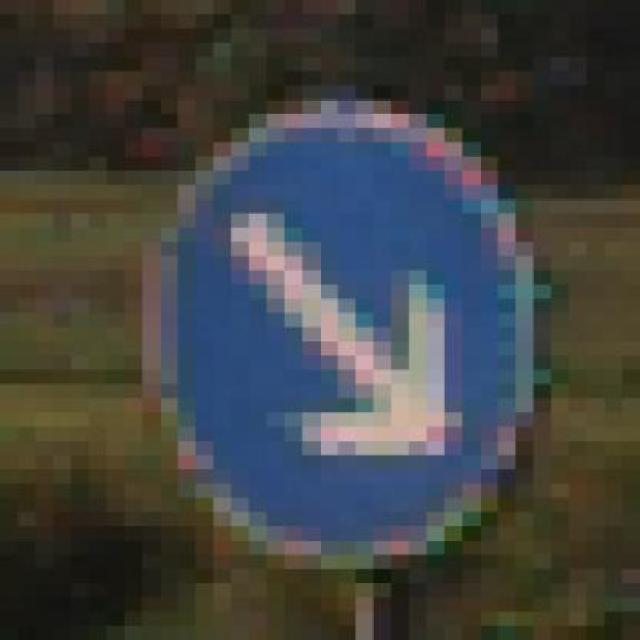Keep-Right: (71, 85, 587, 598)
